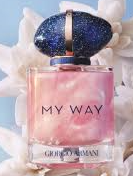armani_my_way_floral: (21, 7, 119, 165)
